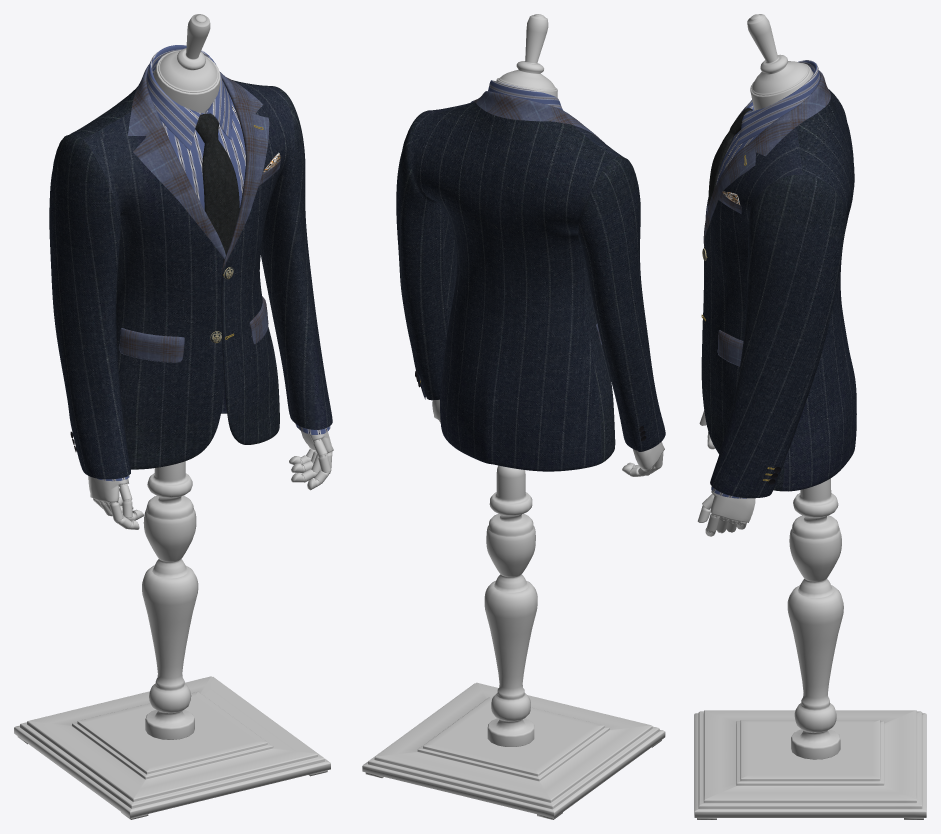
The model's file is suit100.gltf.
3 views of the same model, side by side, from view 1: azimuth 30°, elevation 25°; view 2: azimuth 150°, elevation 25°; view 3: azimuth 270°, elevation 25° (orthographic). The views are drawn at different scales.
Parts seen in each view (by area): view 1: waitao_low_14, Suit_yijia_2, lingzi_low_20, xizhuang13_Retopo_26, lingzi002_42, chenshan_low_16, koudai_right_low_30; view 2: waitao_low_14, Suit_yijia_2, lingzi_low_20, lingzi002_42; view 3: waitao_low_14, Suit_yijia_2, lingzi_low_20, lingzi002_42, xizhuang13_Retopo_26, koudai_left_low_28, chenshan_low_16.
Part boxes in pixels (x1=…): waitao_low_14: x1=49, y1=80, x2=332, y2=479; Suit_yijia_2: x1=14, y1=14, x2=333, y2=819; lingzi_low_20: x1=127, y1=64, x2=269, y2=273; xizhuang13_Retopo_26: x1=195, y1=113, x2=239, y2=261; lingzi002_42: x1=146, y1=45, x2=232, y2=150; chenshan_low_16: x1=96, y1=95, x2=330, y2=481; koudai_right_low_30: x1=119, y1=328, x2=184, y2=362; waitao_low_14: x1=396, y1=101, x2=665, y2=471; Suit_yijia_2: x1=362, y1=14, x2=665, y2=819; lingzi_low_20: x1=470, y1=91, x2=604, y2=142; lingzi002_42: x1=488, y1=80, x2=563, y2=110; waitao_low_14: x1=701, y1=89, x2=856, y2=498; Suit_yijia_2: x1=694, y1=14, x2=926, y2=819; lingzi_low_20: x1=703, y1=70, x2=830, y2=245; lingzi002_42: x1=736, y1=60, x2=820, y2=146; xizhuang13_Retopo_26: x1=708, y1=108, x2=751, y2=208; koudai_left_low_28: x1=717, y1=330, x2=743, y2=366; chenshan_low_16: x1=711, y1=110, x2=759, y2=498.
Size of the model in its own units: 0.8431 by 2.5 by 0.694.
